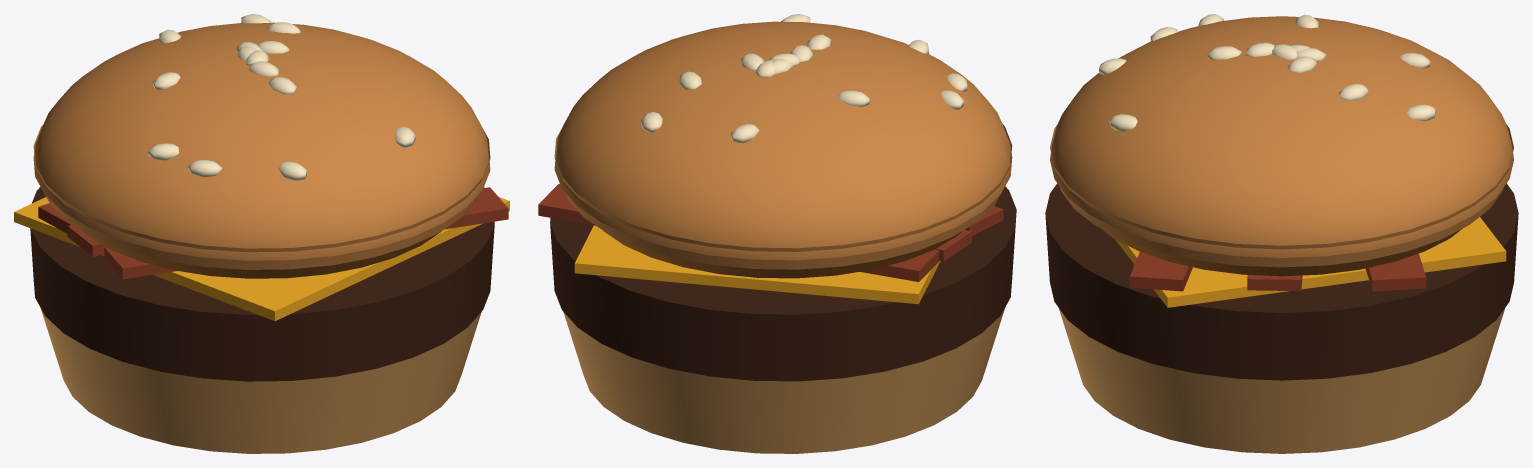
File: burger-res-dulce.glb
3 views of the same model, side by side, from view 1: azimuth 30°, elevation 25°; view 2: azimuth 150°, elevation 25°; view 3: azimuth 270°, elevation 25° (orthographic).
Size of the model in its own units: 0.1634 by 0.122 by 0.1634.
